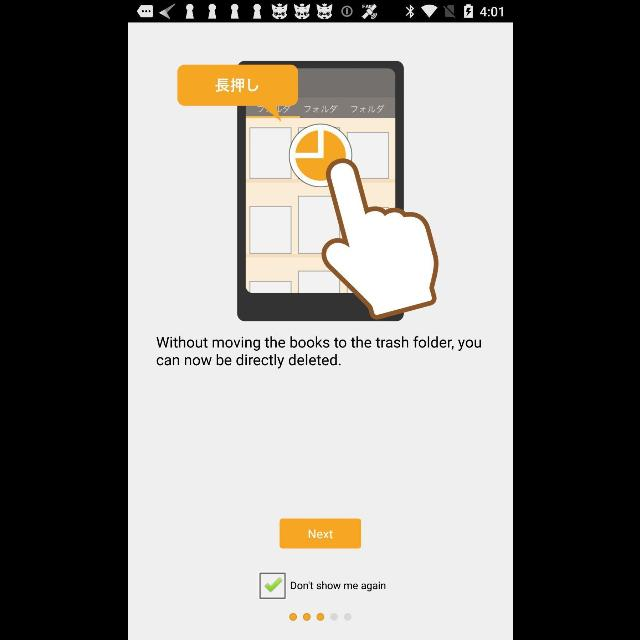checkbox: (259, 572, 285, 600)
image: (176, 61, 438, 322)
pageindicator: (288, 612, 352, 622)
text: (155, 336, 481, 368), (290, 580, 384, 592), (214, 78, 258, 92), (303, 105, 337, 114), (351, 105, 384, 114)
textbutton: (279, 519, 361, 549)
uppertaskbar: (128, 1, 512, 23)
